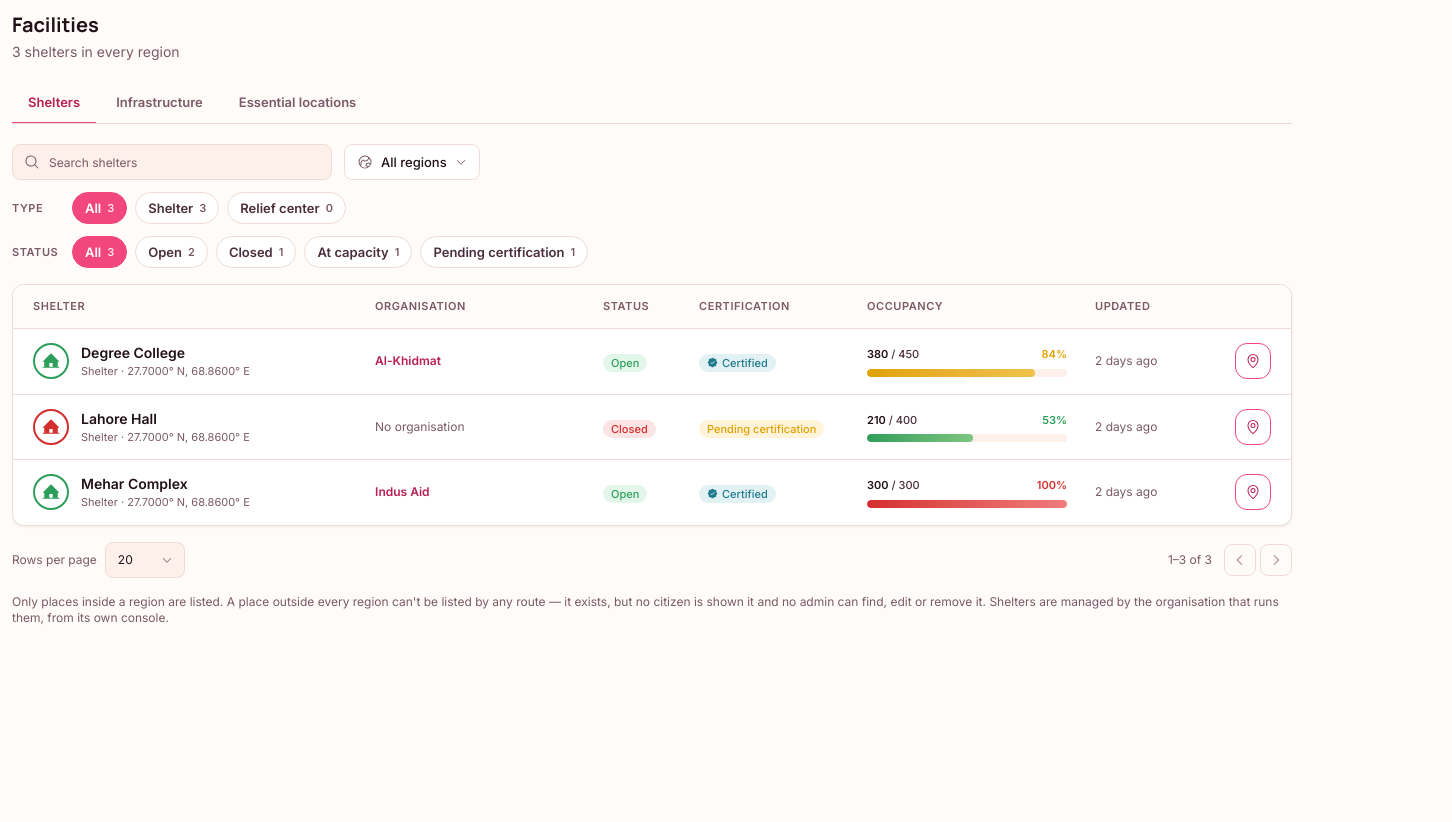
Test: FacilitiesPage — reading › reads only the tab that is showing — and shares what it has read (no second request for a region already asked)
Expected: the text "Degree College" is shown, [81,344,185,361]
Click the tab "Infrastructure". click: (160, 103)
box: [100,82,219,124]
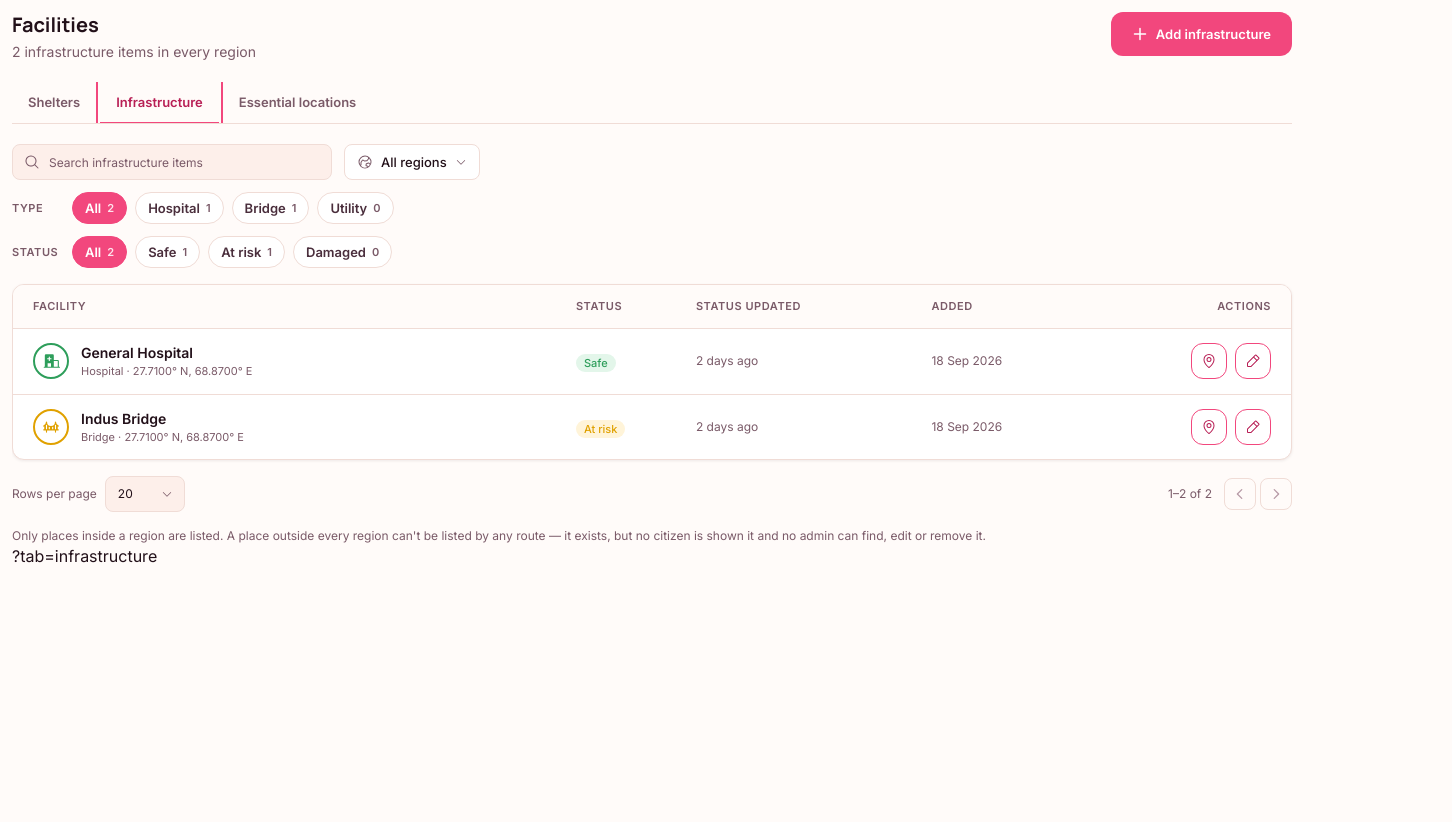
Result: the text "General Hospital" is shown at [81,344,193,361]
Click the tab "Essential locations". click: (298, 103)
box: [223,82,372,124]
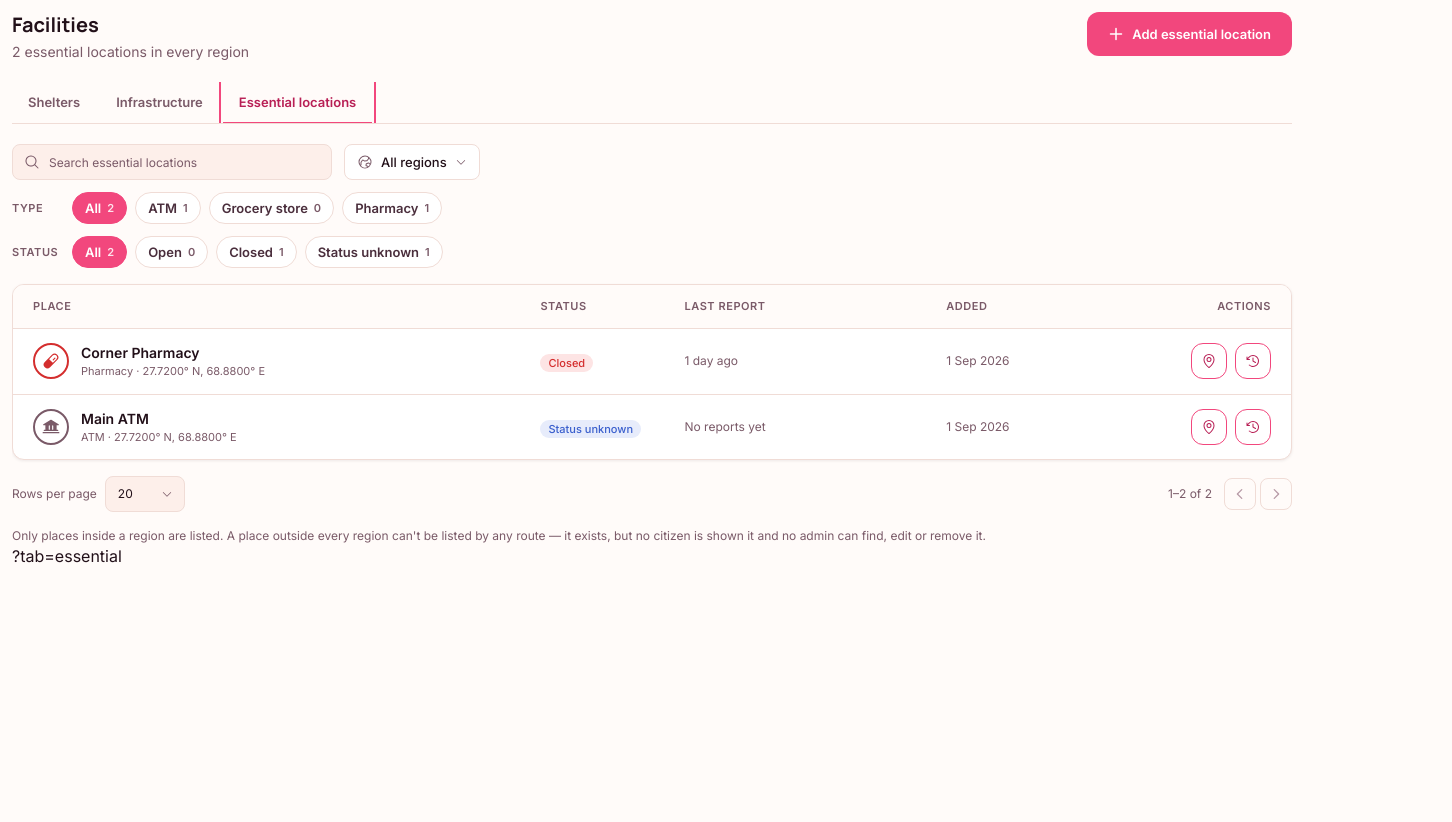
Result: the text "Corner Pharmacy" is shown at [81,344,200,361]
Click the tab "Infrastructure". click: (160, 103)
box: [100,82,219,124]
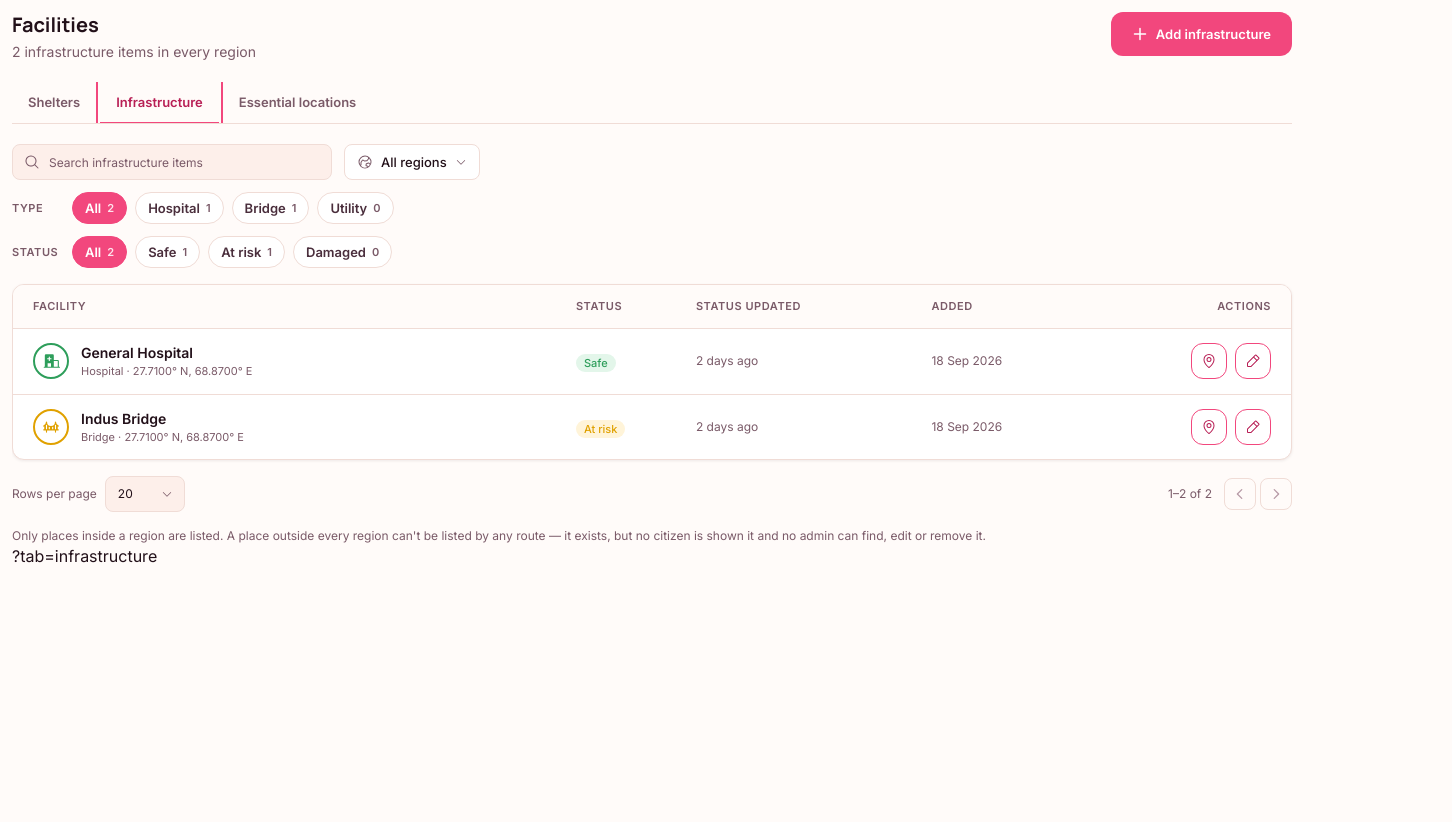
Result: the text "General Hospital" is shown at [81,344,193,361]
